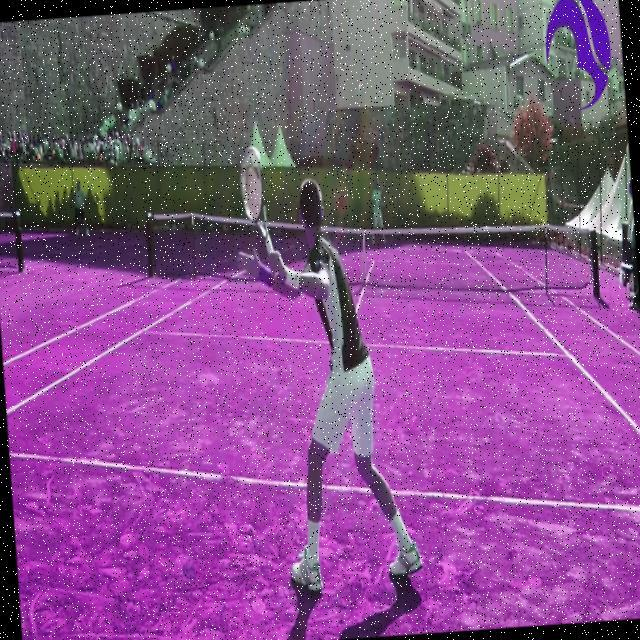court: (0, 259, 640, 566)
net: (142, 201, 593, 290)
player: (230, 132, 426, 598)
